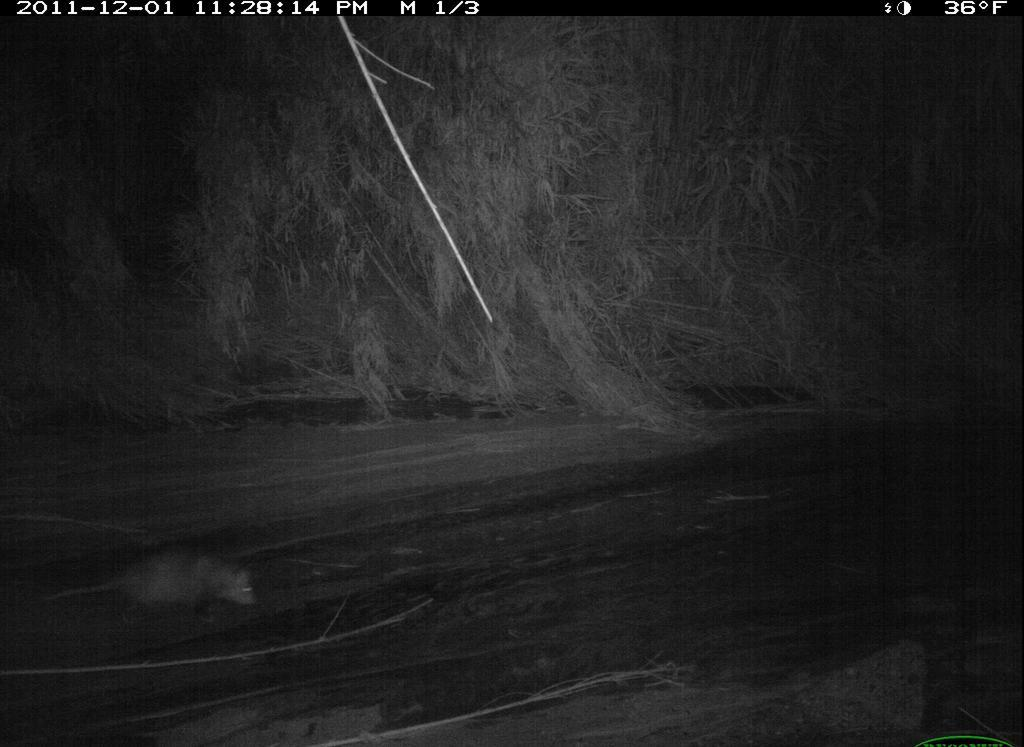opossum: (44, 523, 267, 628)
